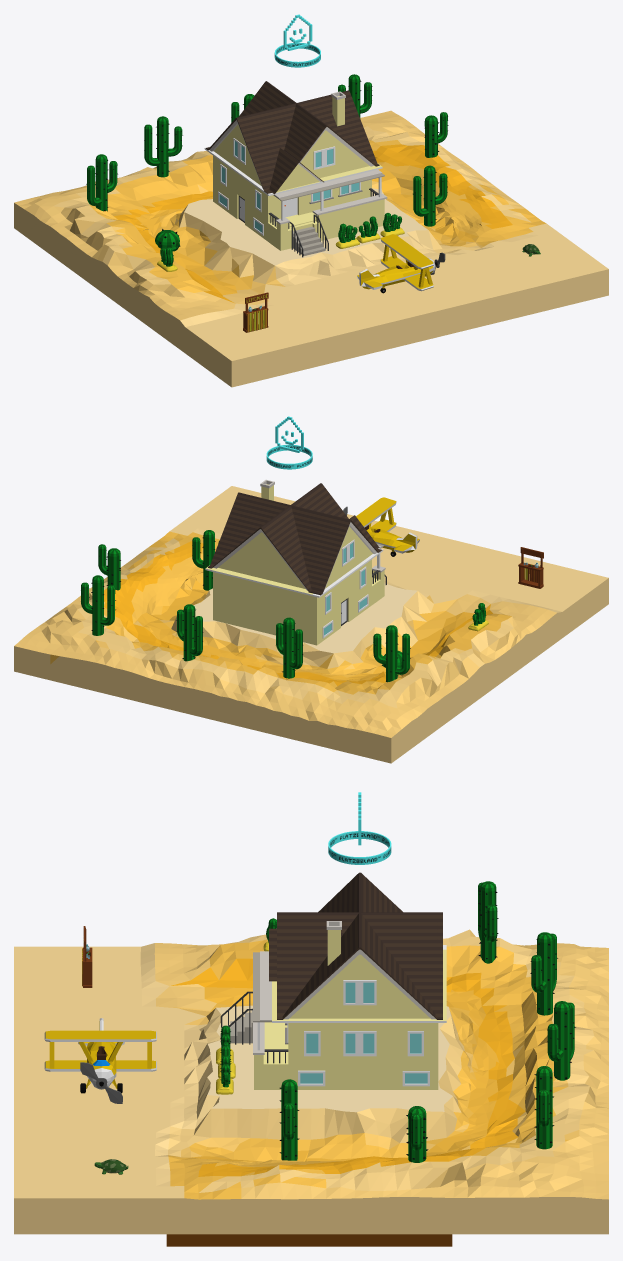
3 renders of one model, top to bottom at view 1: azimuth 30°, elevation 25°; view 2: azimuth 150°, elevation 25°; view 3: azimuth 270°, elevation 25°, orthographic. The views are drawn at different scales.
Parts seen in each view (by area): view 1: Cube.001, Cube.1555, VEHICLES_AIRPLANE, Cylinder.044, Cylinder.037, Cylinder.045, TYPE_PREMIUM, Cylinder.038, OBJRANDOM_LEMONADE_STAND, Cylinder.042; view 2: Cube.001, Cube.1555, VEHICLES_AIRPLANE, Cylinder.042, Cylinder.045, Cylinder.044, Cylinder.043, TYPE_PREMIUM, Cylinder.037, OBJRANDOM_LEMONADE_STAND, Cylinder.038; view 3: Cube.001, Cube.1555, VEHICLES_AIRPLANE, UNDERGROUND_ART_PIECE_VAN_GOGH, Cylinder.043, Cylinder.044, Cylinder.045, Cylinder.042, Cylinder.037, TYPE_PREMIUM, Cylinder.038.
Boxes of the visible parts, x1,y1,x2,y2 form: Cube.001: [14, 110, 608, 387]; Cube.1555: [204, 81, 387, 257]; VEHICLES_AIRPLANE: [357, 234, 445, 293]; Cylinder.044: [144, 116, 182, 177]; Cylinder.037: [413, 165, 447, 226]; Cylinder.045: [86, 154, 117, 211]; TYPE_PREMIUM: [274, 14, 320, 67]; Cylinder.038: [424, 112, 448, 157]; OBJRANDOM_LEMONADE_STAND: [243, 292, 268, 332]; Cylinder.042: [338, 74, 372, 118]; Cube.001: [14, 486, 608, 763]; Cube.1555: [205, 479, 386, 645]; VEHICLES_AIRPLANE: [343, 497, 419, 556]; Cylinder.042: [81, 575, 115, 635]; Cylinder.045: [373, 625, 410, 682]; Cylinder.044: [276, 617, 302, 678]; Cylinder.043: [176, 604, 203, 661]; TYPE_PREMIUM: [266, 416, 312, 469]; Cylinder.037: [192, 530, 219, 590]; OBJRANDOM_LEMONADE_STAND: [518, 547, 543, 588]; Cylinder.038: [98, 544, 120, 590]; Cube.001: [14, 929, 608, 1234]; Cube.1555: [220, 872, 446, 1089]; VEHICLES_AIRPLANE: [44, 1018, 156, 1103]; UNDERGROUND_ART_PIECE_VAN_GOGH: [166, 1234, 452, 1246]; Cylinder.043: [546, 1001, 575, 1080]; Cylinder.044: [530, 932, 557, 1015]; Cylinder.045: [478, 881, 498, 963]; Cylinder.042: [534, 1066, 554, 1149]; Cylinder.037: [279, 1079, 299, 1160]; TYPE_PREMIUM: [328, 792, 391, 864]; Cylinder.038: [406, 1106, 428, 1162].
Size of the model in its own units: 4002 by 2563 by 4001.
46 materials, 4 textured.
